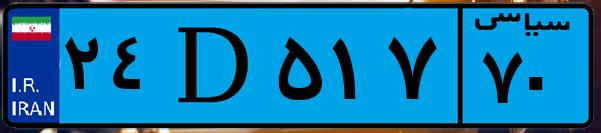0: (525, 38, 570, 115)
1: (330, 28, 385, 110)
2: (57, 26, 110, 100)
4: (110, 28, 158, 98)
5: (270, 28, 330, 110)
7: (385, 28, 445, 110), (475, 38, 525, 113)
D: (158, 12, 270, 120)
